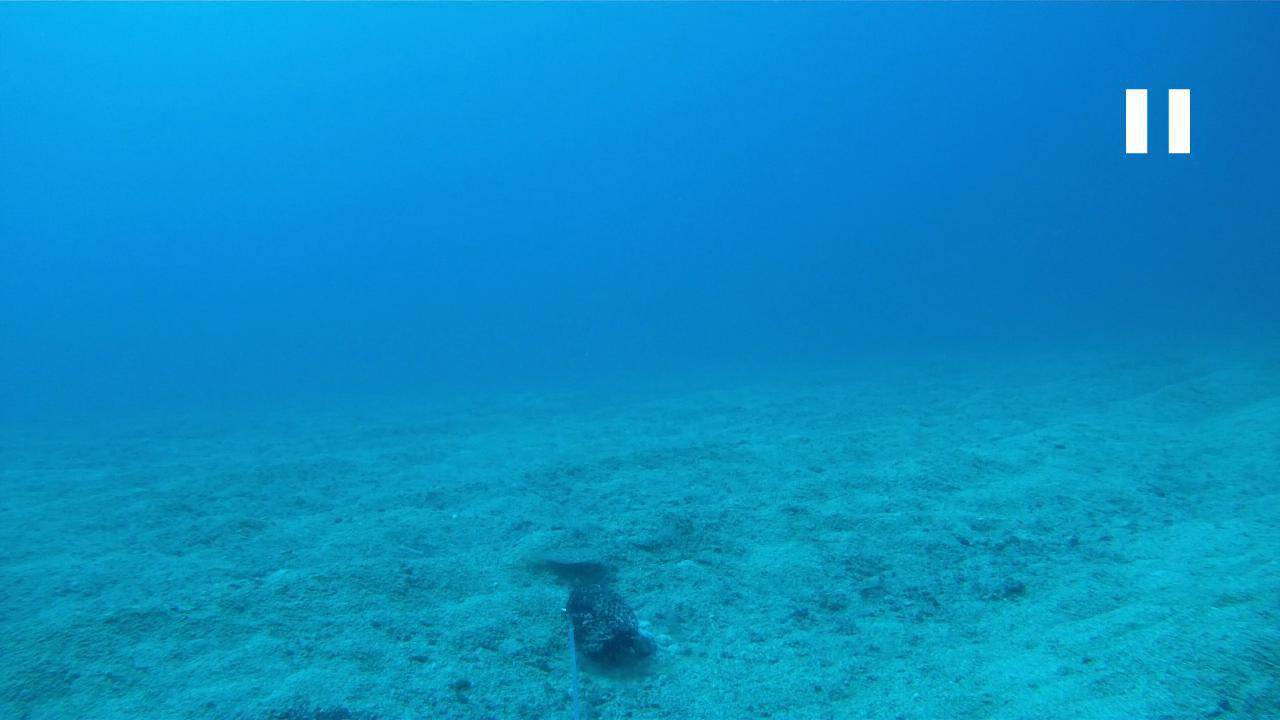bothus: (530, 541, 610, 566)
